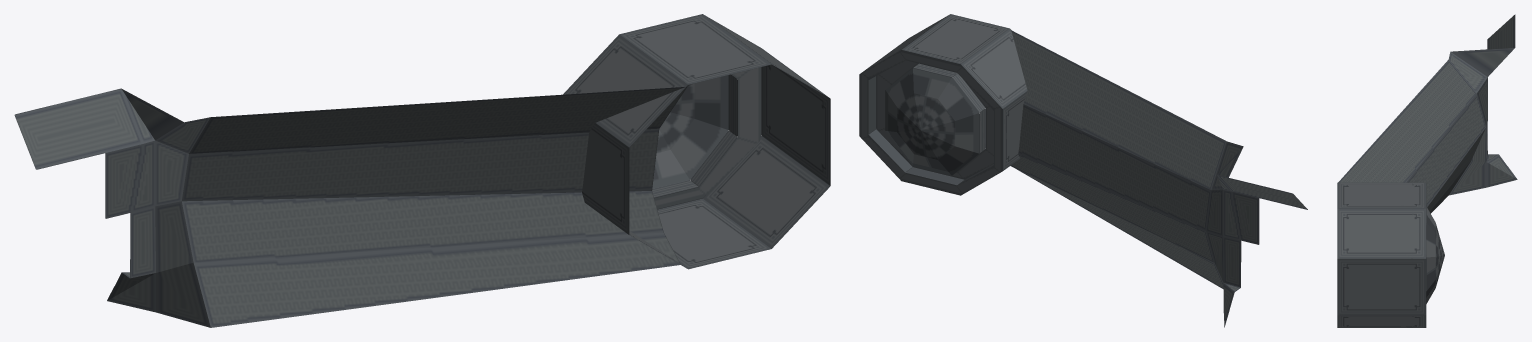
File: wing.obj
3 views of the same model, side by side, from view 1: azimuth 30°, elevation 25°; view 2: azimuth 150°, elevation 25°; view 3: azimuth 270°, elevation 25° (orthographic). The views are drawn at different scales.
Visible parts, largest first — view 1: wing, turbine; view 2: wing, turbine; view 3: wing, turbine.
Part boxes in pixels (<box>): wing: <box>14,87,686,327</box>; turbine: <box>563,14,830,269</box>; wing: <box>1010,30,1307,327</box>; turbine: <box>859,14,1027,195</box>; wing: <box>1338,14,1517,213</box>; turbine: <box>1337,182,1444,327</box>.
Bounding box in the file's own units: 13.47 × 4 × 4.81.
